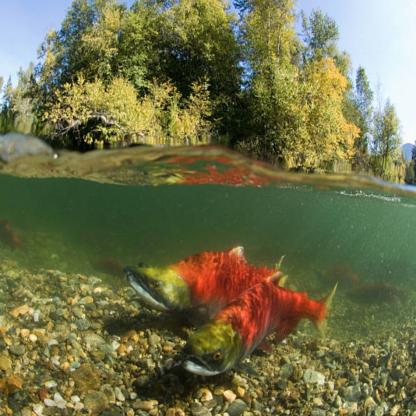sockeye: (179, 281, 343, 373), (128, 237, 284, 306)
